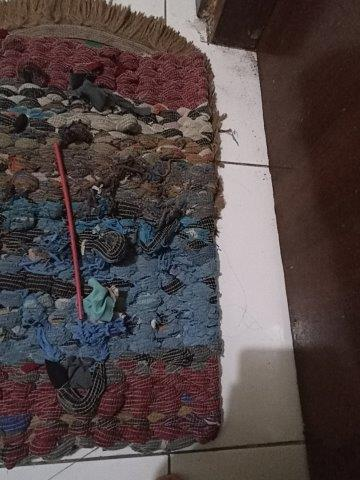sedotan: (54, 145, 84, 318)
